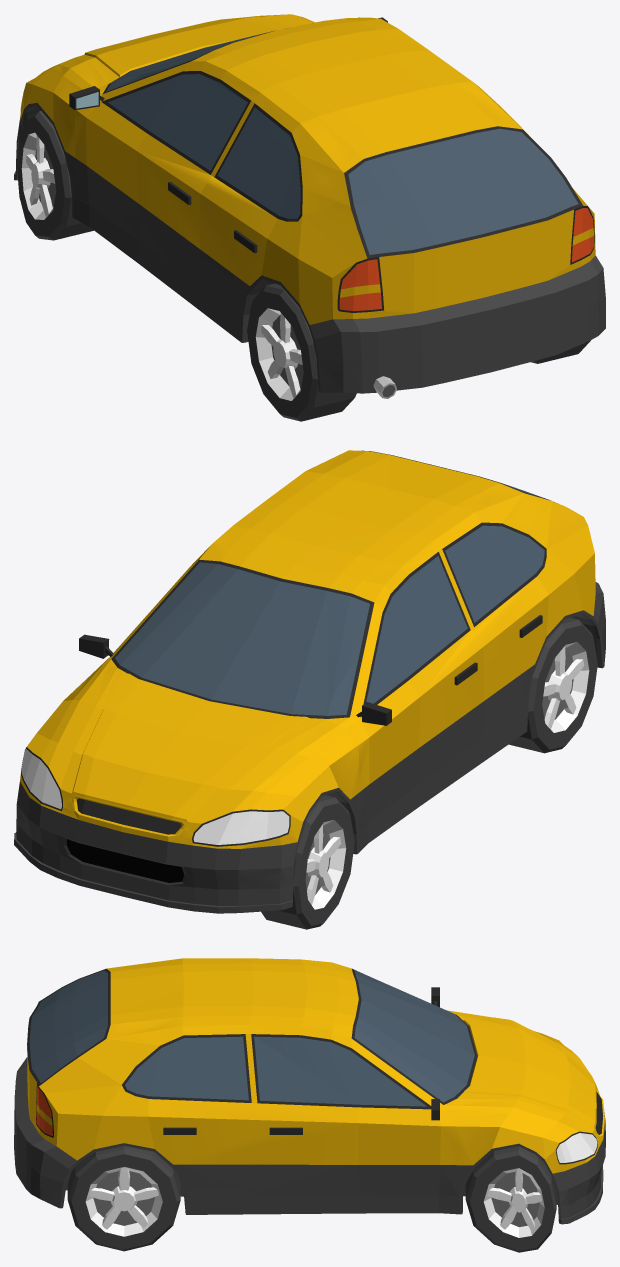
Rendered from crashed_hatchback_openable.glb.
The picture shows the model from 3 angles, top to bottom: view 1: azimuth 30°, elevation 25°; view 2: azimuth 150°, elevation 25°; view 3: azimuth 270°, elevation 25°; orthographic projection. The views are drawn at different scales.
Visible parts, largest first — view 1: Hatchback Car_15, DriverDoor, Hatchback Car_15 BL Tire, Hatchback Car_15 FL Tire; view 2: Hatchback Car_15, DriverDoor, Hatchback Car_15 BL Tire, Hatchback Car_15 FL Tire; view 3: Hatchback Car_15, Hatchback Car_15 BR Tire, Hatchback Car_15 FR Tire.
Part boxes in pixels (x1,y1,x2,y2): Hatchback Car_15: [14, 14, 605, 398]; DriverDoor: [69, 73, 239, 287]; Hatchback Car_15 BL Tire: [247, 283, 356, 421]; Hatchback Car_15 FL Tire: [17, 111, 93, 240]; Hatchback Car_15: [14, 450, 605, 913]; DriverDoor: [321, 571, 484, 829]; Hatchback Car_15 BL Tire: [509, 617, 597, 753]; Hatchback Car_15 FL Tire: [261, 795, 354, 929]; Hatchback Car_15: [14, 958, 605, 1224]; Hatchback Car_15 BR Tire: [67, 1146, 180, 1251]; Hatchback Car_15 FR Tire: [465, 1146, 556, 1252].
Bounding box in the file's own units: 1.87 × 1.48 × 3.8.
2 materials, 2 textured.
